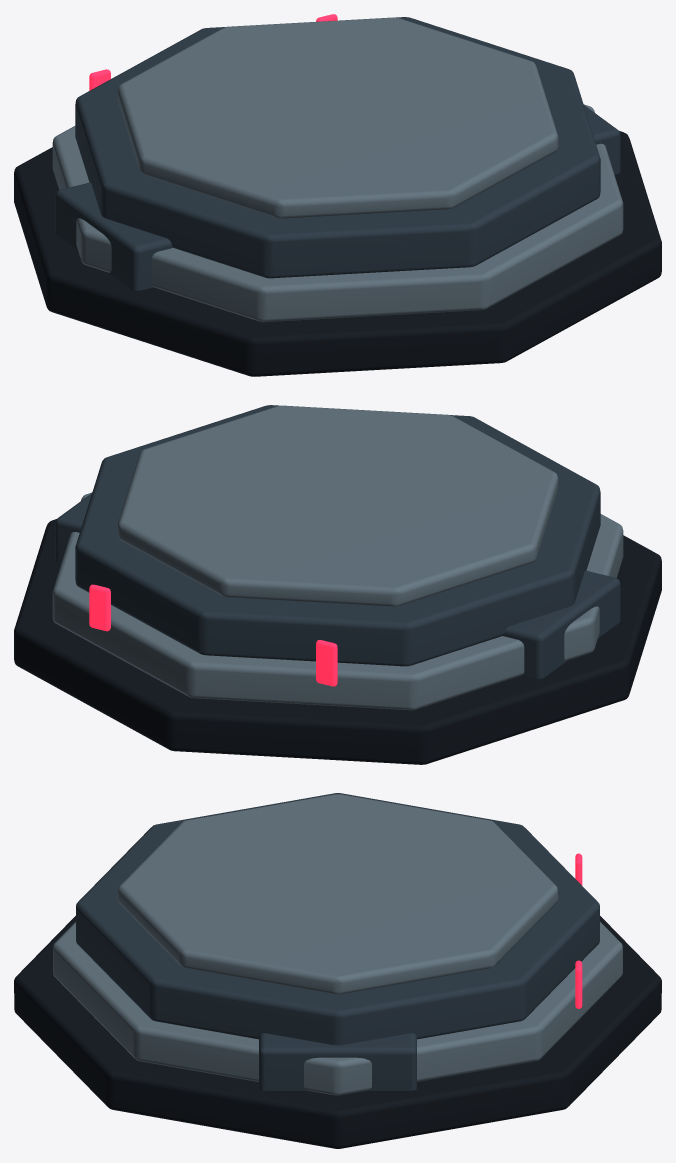
Rendered from watcher_base.glb.
3 renders of one model, top to bottom at view 1: azimuth 30°, elevation 25°; view 2: azimuth 150°, elevation 25°; view 3: azimuth 270°, elevation 25°, orthographic. The views are drawn at different scales.
Visible parts, largest first — view 1: Octagonal foundation.003, Octagonal foundation, Octagonal foundation.002, Octagonal foundation.001, Foot clamp, Foot clamp.001; view 2: Octagonal foundation.003, Octagonal foundation, Octagonal foundation.002, Octagonal foundation.001, Foot clamp, Foot clamp.001, Front power inlet, Front power inlet.001; view 3: Octagonal foundation.003, Octagonal foundation, Octagonal foundation.002, Octagonal foundation.001, Foot clamp.001.
Boxes of the visible parts, x1=… form: Octagonal foundation.003: x1=117, y1=17, x2=558, y2=218; Octagonal foundation: x1=14, y1=131, x2=661, y2=376; Octagonal foundation.002: x1=75, y1=17, x2=600, y2=278; Octagonal foundation.001: x1=52, y1=104, x2=623, y2=322; Foot clamp: x1=55, y1=182, x2=172, y2=290; Foot clamp.001: x1=584, y1=105, x2=620, y2=174; Octagonal foundation.003: x1=117, y1=405, x2=558, y2=606; Octagonal foundation: x1=14, y1=519, x2=661, y2=764; Octagonal foundation.002: x1=75, y1=405, x2=600, y2=666; Octagonal foundation.001: x1=52, y1=492, x2=623, y2=710; Foot clamp: x1=503, y1=570, x2=620, y2=678; Foot clamp.001: x1=55, y1=493, x2=91, y2=562; Front power inlet: x1=316, y1=640, x2=337, y2=686; Front power inlet.001: x1=89, y1=584, x2=110, y2=631; Octagonal foundation.003: x1=117, y1=794, x2=558, y2=994; Octagonal foundation: x1=14, y1=916, x2=661, y2=1148; Octagonal foundation.002: x1=76, y1=793, x2=599, y2=1045; Octagonal foundation.001: x1=53, y1=922, x2=622, y2=1095; Foot clamp.001: x1=259, y1=1033, x2=416, y2=1090.
Size of the model in its own units: 3.68 by 0.81 by 3.69.
